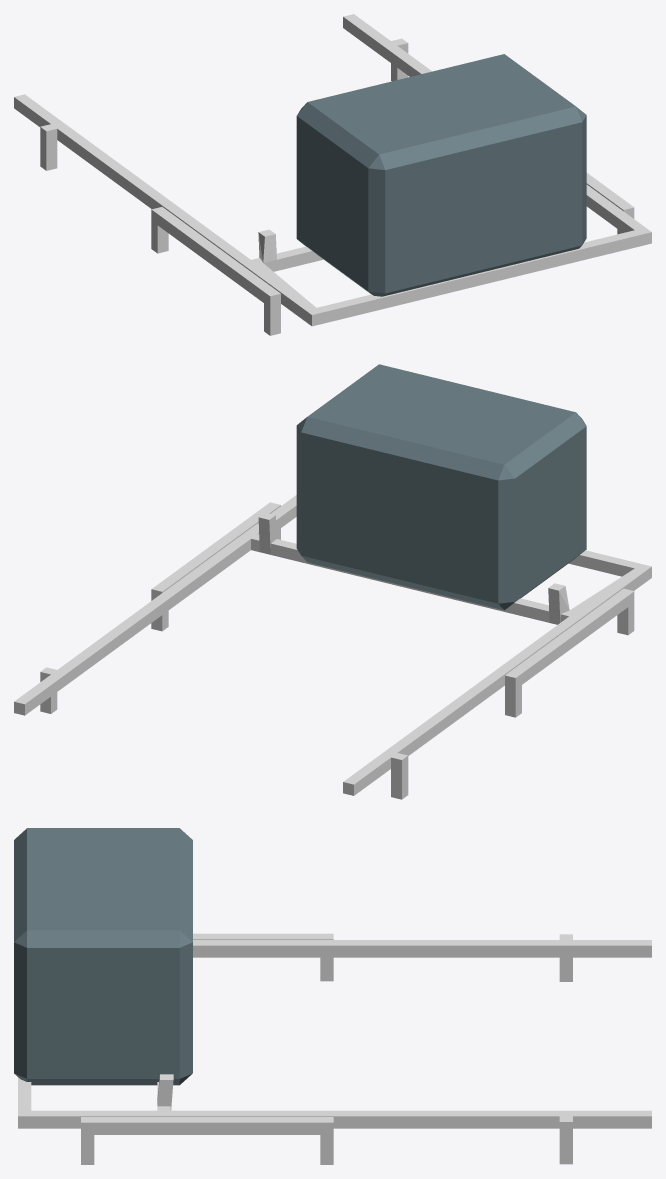
Rendered from frame.dae.
3 renders of one model, top to bottom at view 1: azimuth 30°, elevation 25°; view 2: azimuth 150°, elevation 25°; view 3: azimuth 270°, elevation 25°, orthographic. The views are drawn at different scales.
Visible parts, largest first — view 1: frameBox, frame; view 2: frameBox, frame; view 3: frameBox, frame.
Boxes of the visible parts, bbox=[...] form: frameBox: bbox=[296, 54, 586, 296]; frame: bbox=[14, 14, 651, 335]; frameBox: bbox=[296, 364, 586, 610]; frame: bbox=[14, 495, 651, 799]; frameBox: bbox=[14, 828, 192, 1085]; frame: bbox=[18, 933, 651, 1164].
Size of the model in its own units: 0.8508 by 1.21 by 0.4007.
